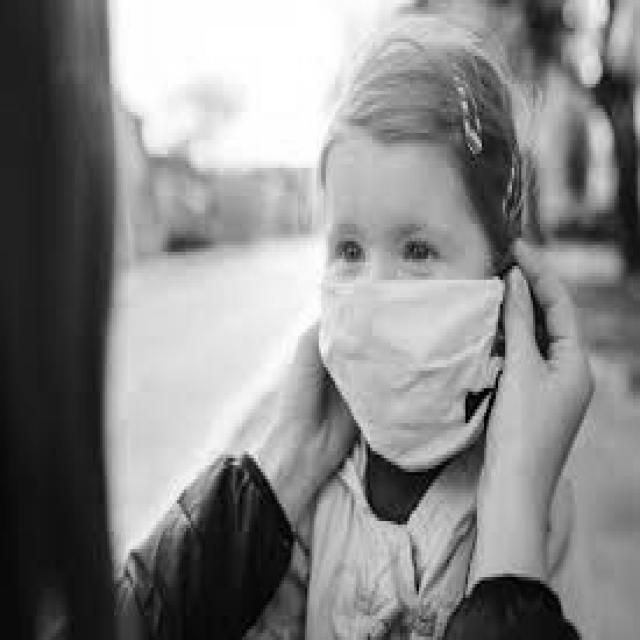with_mask: (317, 273, 505, 472)
